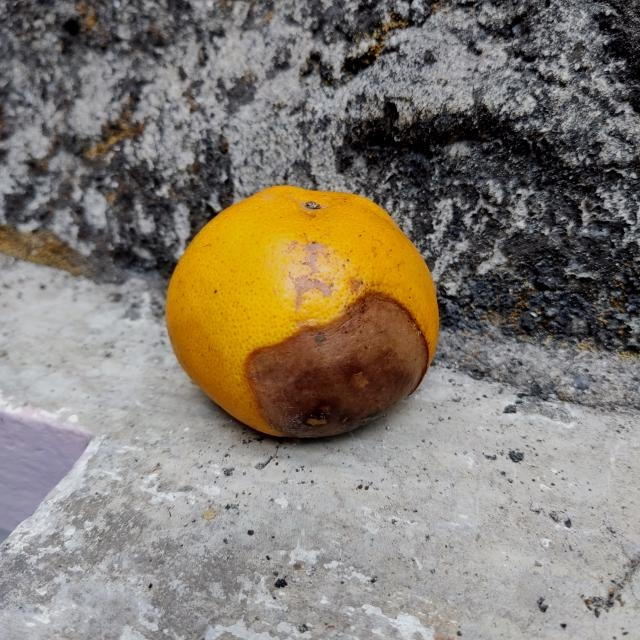agrume: (164, 185, 444, 444)
